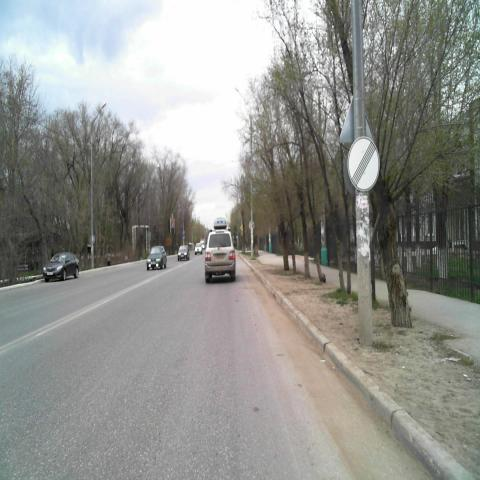3_31: (348, 134, 380, 191)
